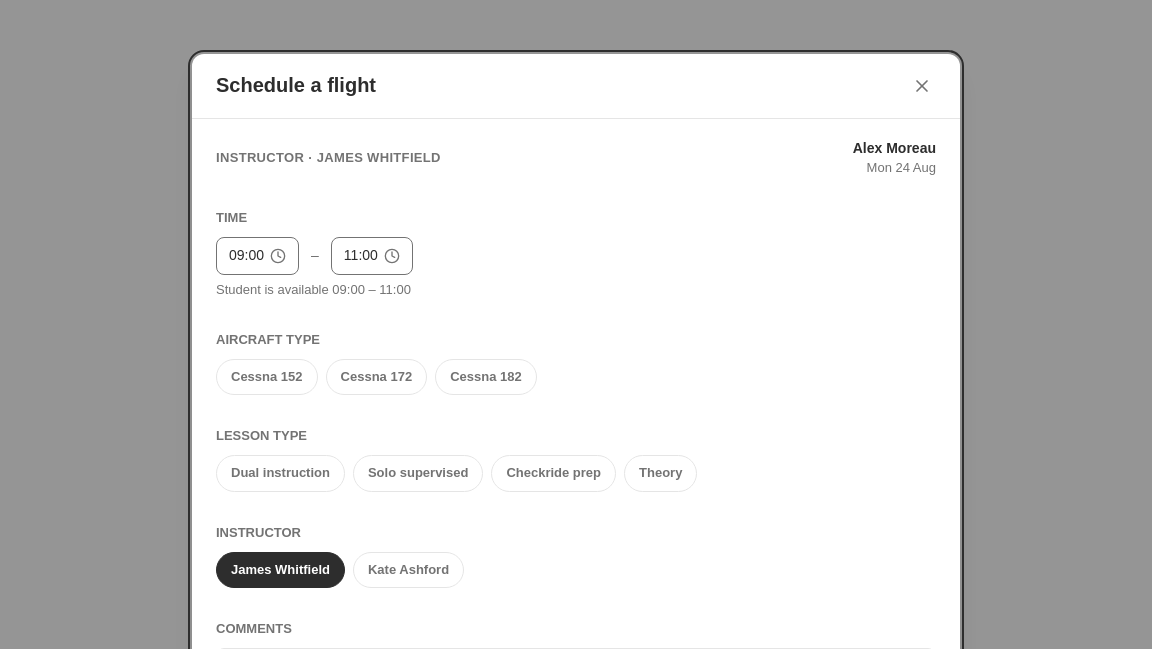
Test: ScheduleFlightModal › only shows tail numbers for the selected aircraft type
This screenshot has width=1152, height=649.
Expected: the text "Tail number" is not shown
Click the button "Cessna 152" at x=267, y=377, box [216,359,318,395]
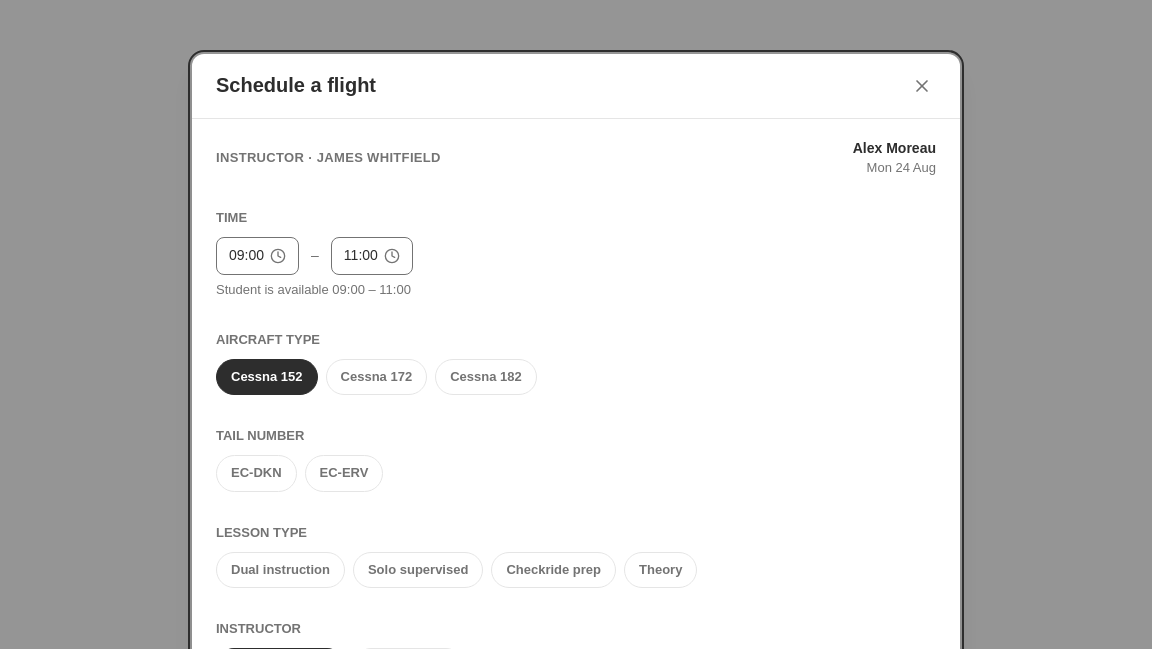
Expected: the button "EC-JTJ" is not shown
Result: the button "EC-DKN" is shown at [216,455,297,492]
Result: the button "EC-ERV" is shown at [305,455,384,492]
Click the button "Cessna 172" at x=376, y=377, box [326,359,427,395]
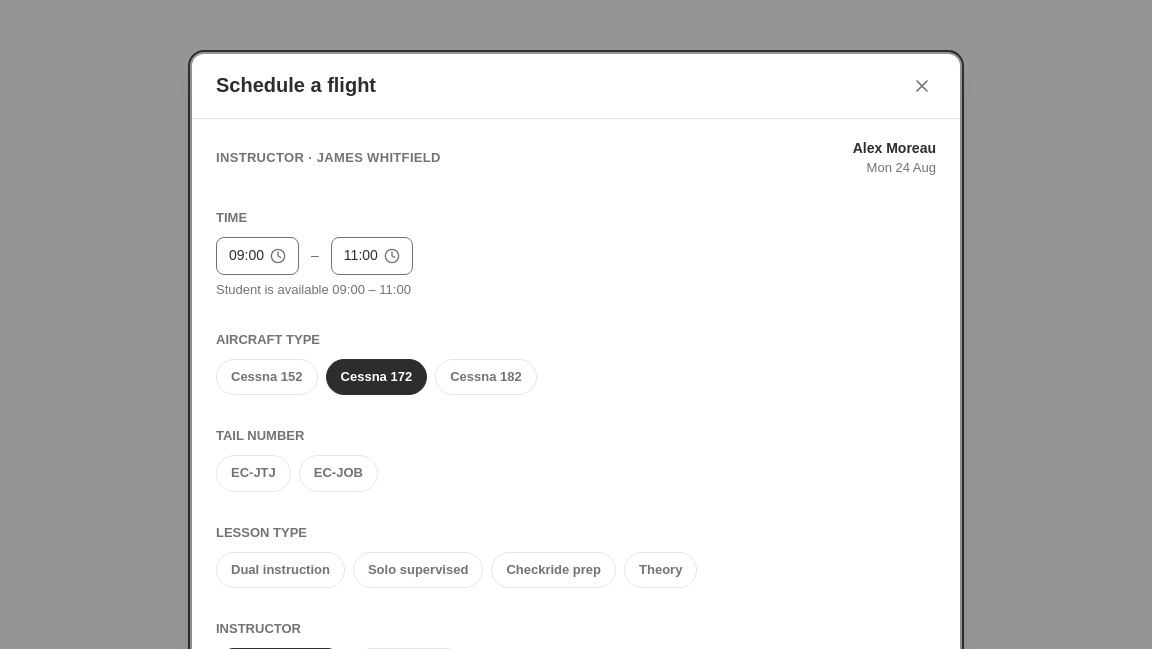
Result: the button "EC-JTJ" is shown at [216,455,291,492]
Result: the button "EC-DKN" is gone
